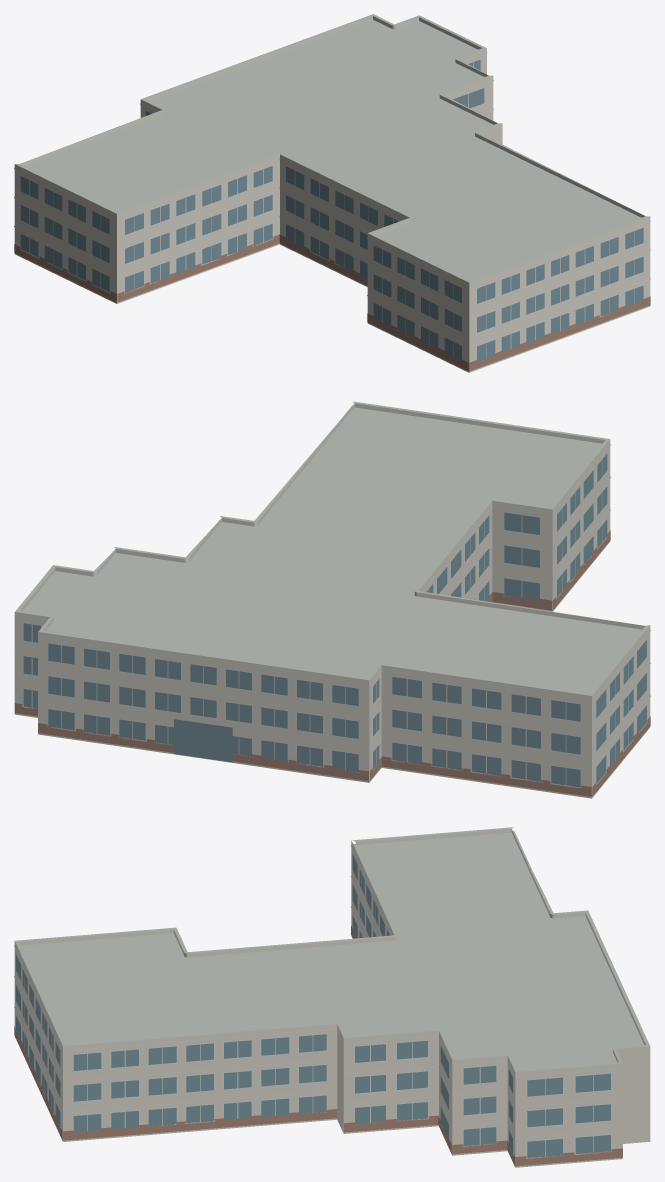
Rendered from public-4565317b-1ced-423d-b56c-ee077afb1949.glb.
3 views of the same model, one above another, from view 1: azimuth 30°, elevation 25°; view 2: azimuth 150°, elevation 25°; view 3: azimuth 270°, elevation 25° (orthographic). The views are drawn at different scales.
Parts seen in each view (by area): view 1: public-4565317b-1ced-423d-b56c-ee077afb1949; view 2: public-4565317b-1ced-423d-b56c-ee077afb1949; view 3: public-4565317b-1ced-423d-b56c-ee077afb1949.
Part boxes in pixels (<box>): public-4565317b-1ced-423d-b56c-ee077afb1949: <box>14,14,650,372</box>; public-4565317b-1ced-423d-b56c-ee077afb1949: <box>14,401,650,798</box>; public-4565317b-1ced-423d-b56c-ee077afb1949: <box>14,827,650,1167</box>.
Bounding box in the file's own units: 50.34 × 9.15 × 55.16.
